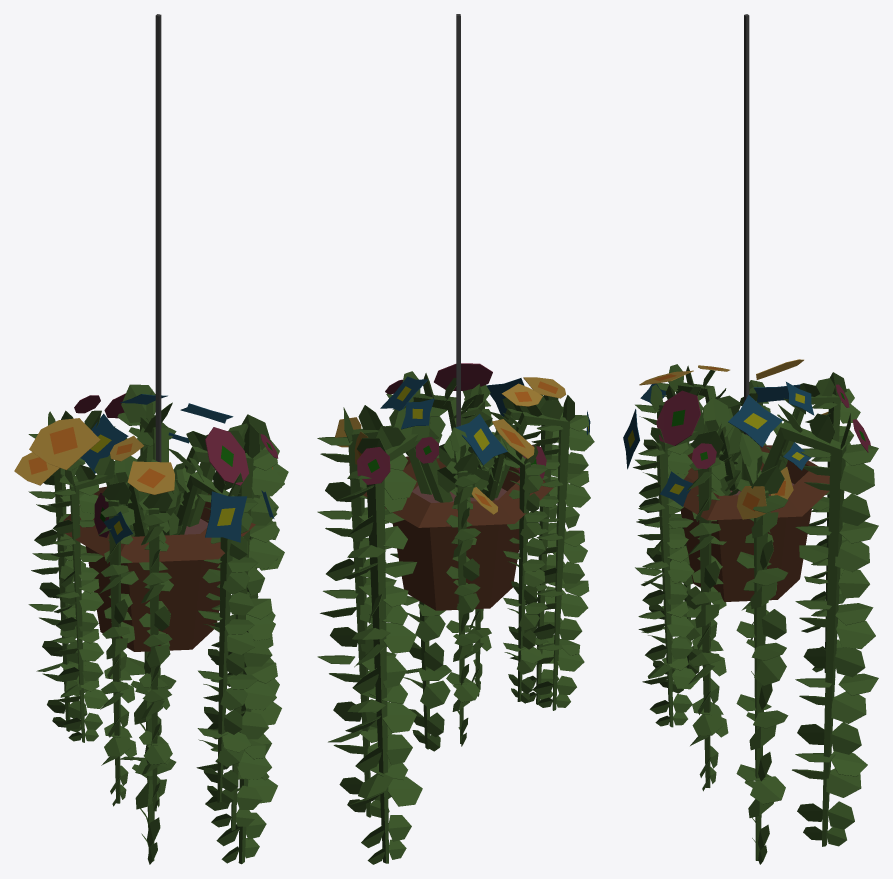
File: Vaso pendurado.glb
3 views of the same model, side by side, from view 1: azimuth 30°, elevation 25°; view 2: azimuth 150°, elevation 25°; view 3: azimuth 270°, elevation 25° (orthographic). The views are drawn at different scales.
Parts seen in each view (by area): view 1: FlowerPot3.001; view 2: FlowerPot3.001; view 3: FlowerPot3.001.
Boxes of the visible parts, left/top/right/bottom form: FlowerPot3.001: left=14, top=14, right=288, bottom=864; FlowerPot3.001: left=317, top=14, right=594, bottom=864; FlowerPot3.001: left=623, top=14, right=878, bottom=864.
Size of the model in its own units: 8.52 by 29.84 by 8.48.
